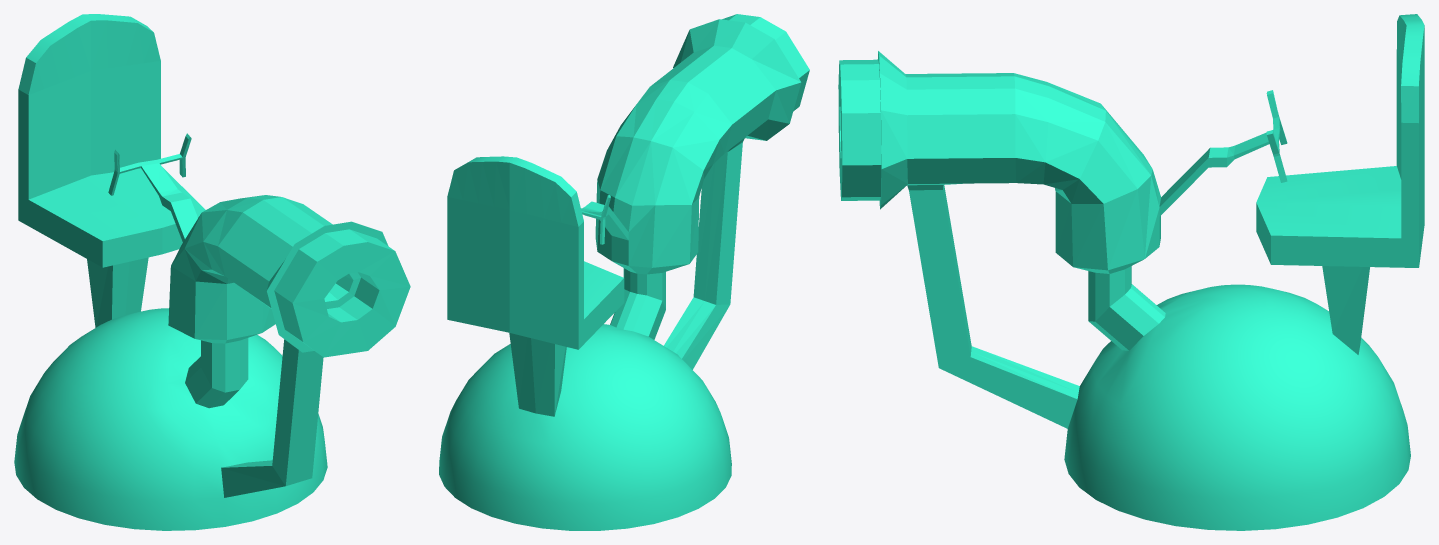
File: Torreta 1.fbx
The picture shows the model from 3 angles, left to right: view 1: azimuth 30°, elevation 25°; view 2: azimuth 150°, elevation 25°; view 3: azimuth 270°, elevation 25°; orthographic projection. The views are drawn at different scales.
Parts seen in each view (by area): view 1: Sphere004; view 2: Sphere004; view 3: Sphere004.
Boxes of the visible parts, x1,y1,x2,y2 form: Sphere004: (14, 14, 410, 530); Sphere004: (439, 14, 809, 530); Sphere004: (838, 14, 1424, 530).
Bounding box in the file's own units: 6.15 × 8.44 × 10.4.
